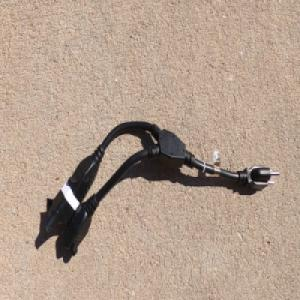Wire: (43, 119, 281, 259)
